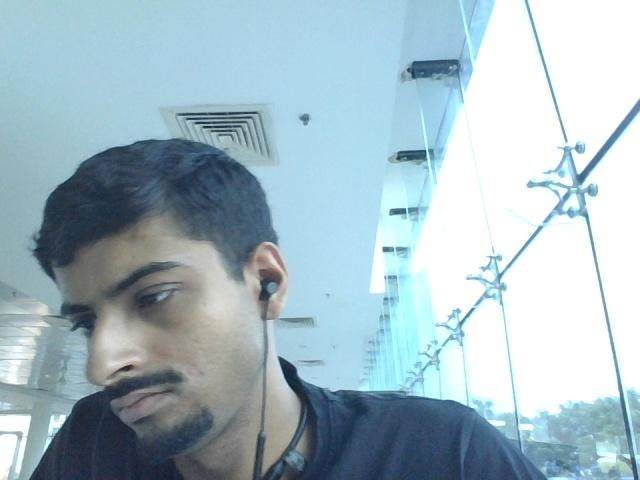average: (46, 139, 313, 440)
